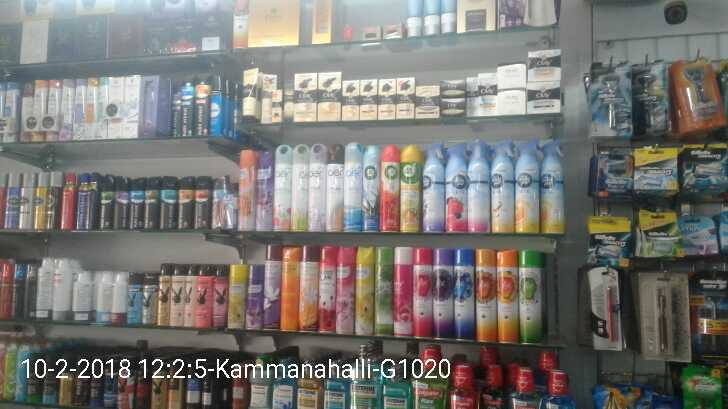beauty: (669, 60, 725, 133), (586, 62, 633, 137), (635, 60, 670, 136), (679, 145, 728, 193), (635, 207, 679, 260), (592, 142, 632, 197), (632, 146, 679, 191), (587, 218, 631, 266), (293, 71, 319, 122), (525, 46, 561, 81), (524, 79, 561, 113), (316, 73, 341, 121), (413, 84, 440, 119), (340, 81, 361, 123), (358, 79, 379, 121), (395, 75, 415, 119), (495, 92, 527, 117), (377, 77, 395, 121), (466, 73, 497, 97), (467, 96, 495, 118), (498, 65, 522, 89), (439, 97, 466, 118), (439, 78, 467, 97)
home: (540, 136, 566, 234), (491, 137, 516, 234), (516, 137, 541, 233), (444, 139, 469, 232), (469, 139, 493, 232), (422, 139, 445, 232)
